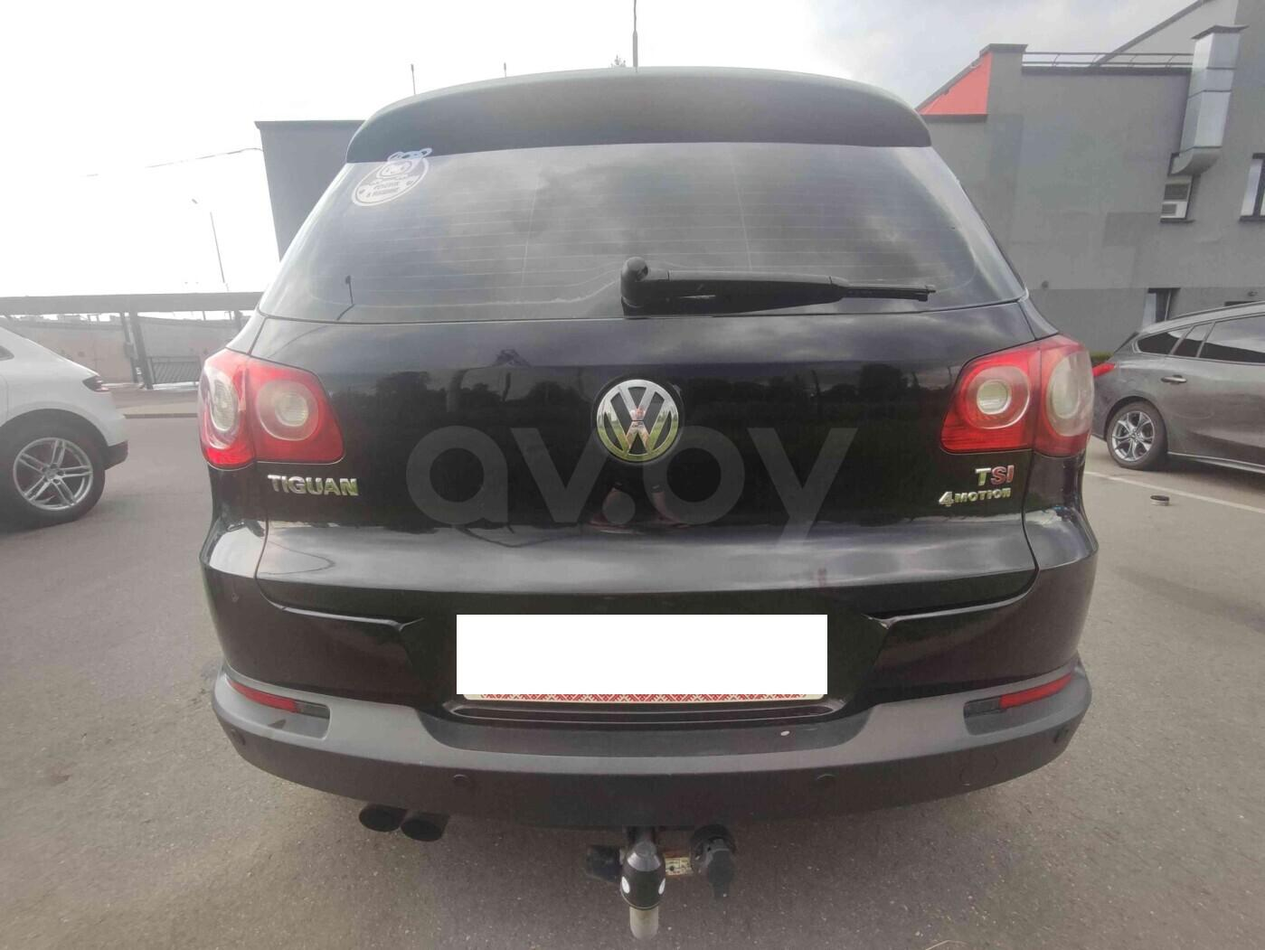Tiguan_2007-2011: (187, 57, 1101, 856)
